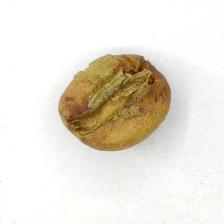NG: (71, 54, 160, 133)
